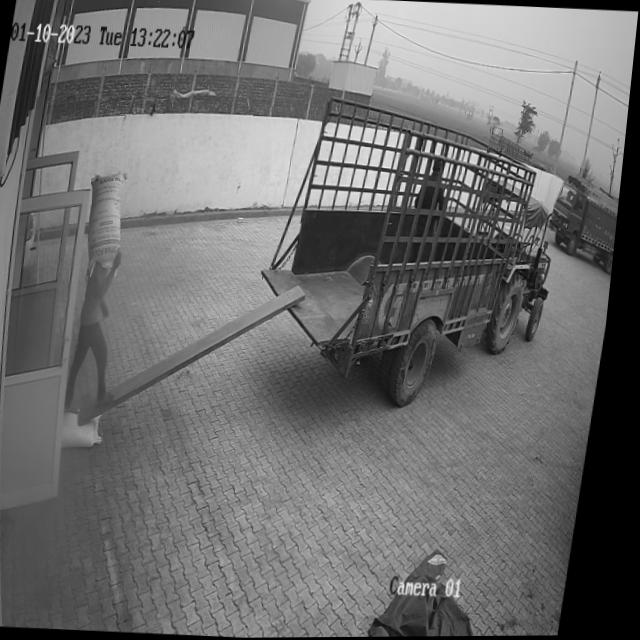sack: (83, 170, 136, 278), (69, 412, 115, 450)
